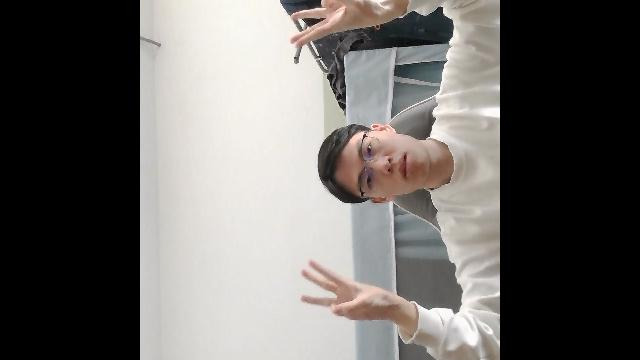three: (296, 255, 412, 326), (285, 0, 391, 46)
